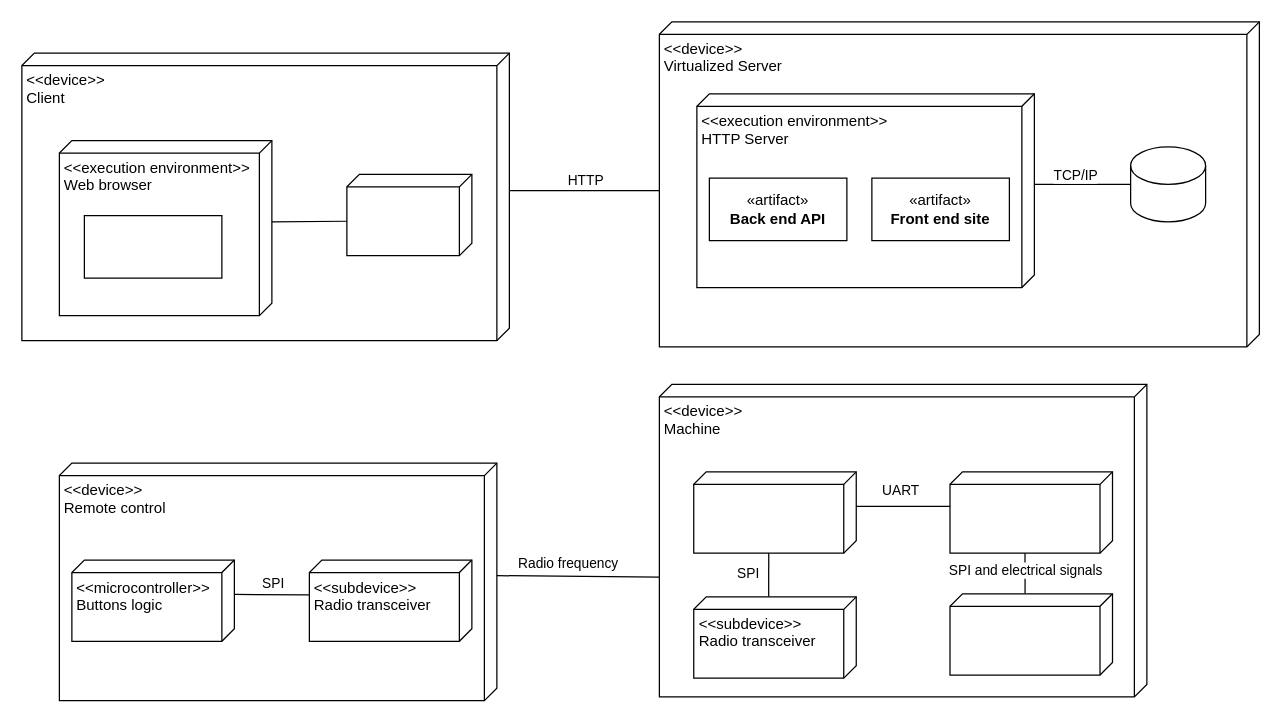
Some shapes in this 1281 by 723 pixel diagram are drawn without their labels. The shapes that lost their labels are listed below. From the top down, each one's centre as x and y in pixels, then its label:
At [1167,184]: "Database".
At [409,214]: "<<subdevice>> Camera".
At [152,246]: "«artifact» HTML/JS".
At [774,512]: "<<microcontroller>> Logic unit".
At [1030,512]: "<<microcontroller>> Display unit".
At [1030,633]: "<<subdevice>> Display hardware".
